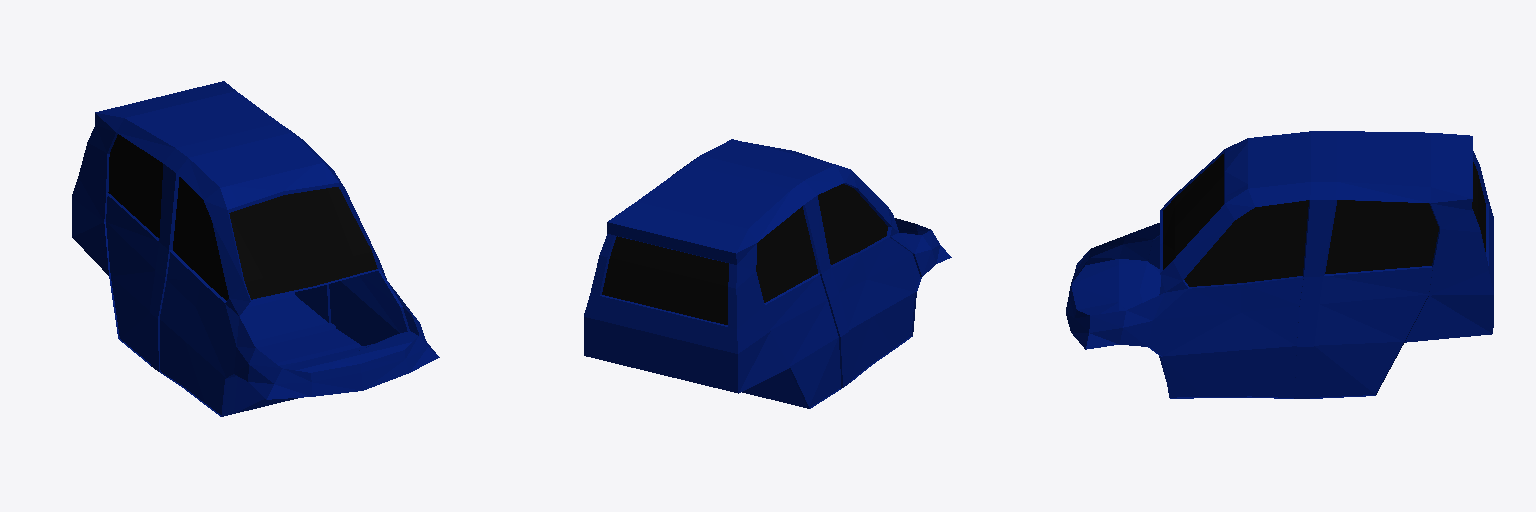
The model's file is CuerpoCarro_obj.obj.
3 views of the same model, side by side, from view 1: azimuth 30°, elevation 25°; view 2: azimuth 150°, elevation 25°; view 3: azimuth 270°, elevation 25° (orthographic).
Visible parts, largest first — view 1: CarBody; view 2: CarBody; view 3: CarBody.
Boxes of the visible parts, x1,y1,x2,y2 form: CarBody: [72, 81, 439, 416]; CarBody: [584, 139, 951, 408]; CarBody: [1066, 131, 1493, 398].
Bounding box in the file's own units: 37.2 × 39.4 × 76.84.